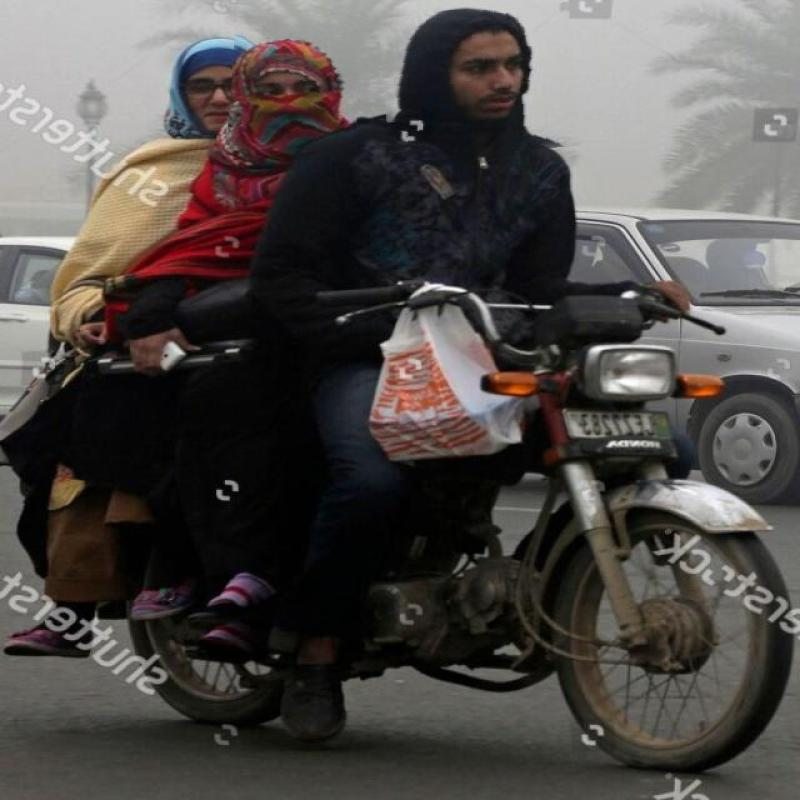nohelmet: (382, 5, 578, 158), (230, 13, 362, 151)
